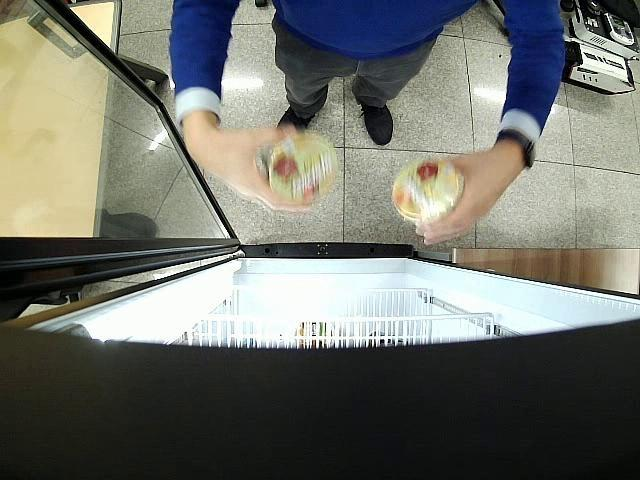04_chapagetti_S: (258, 131, 338, 202), (392, 159, 464, 222)
